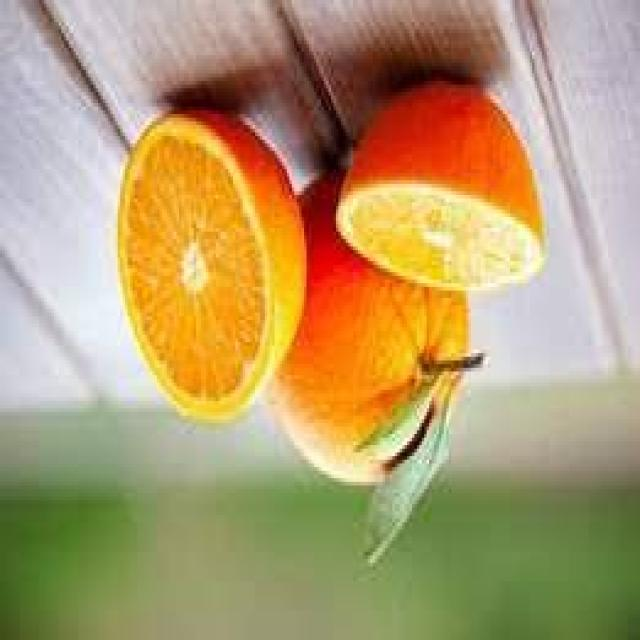orange: (270, 187, 483, 482)
